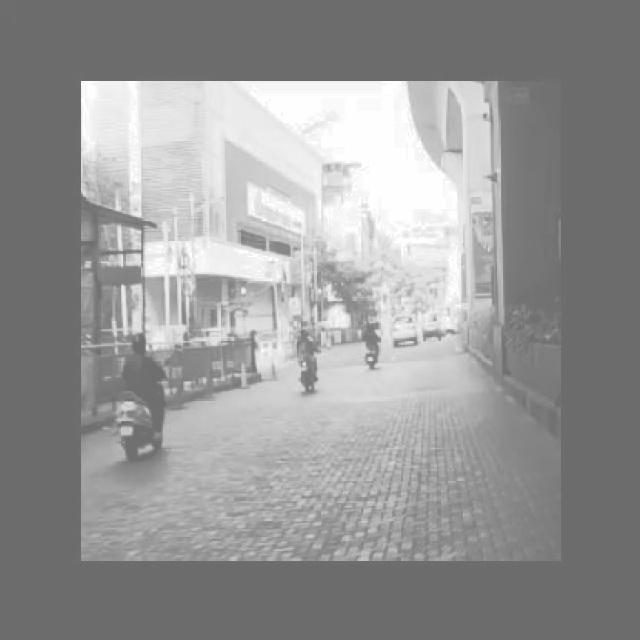Car: (386, 311, 429, 352), (422, 297, 452, 344)
